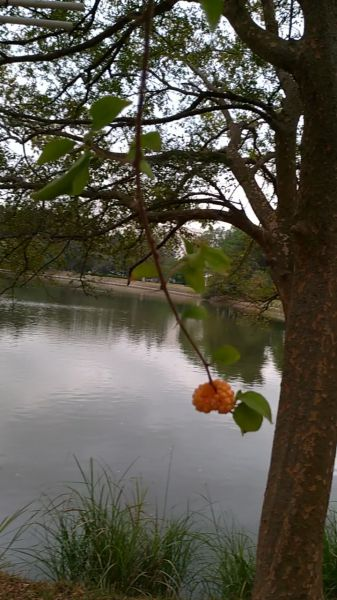eggs: (191, 374, 243, 418)
